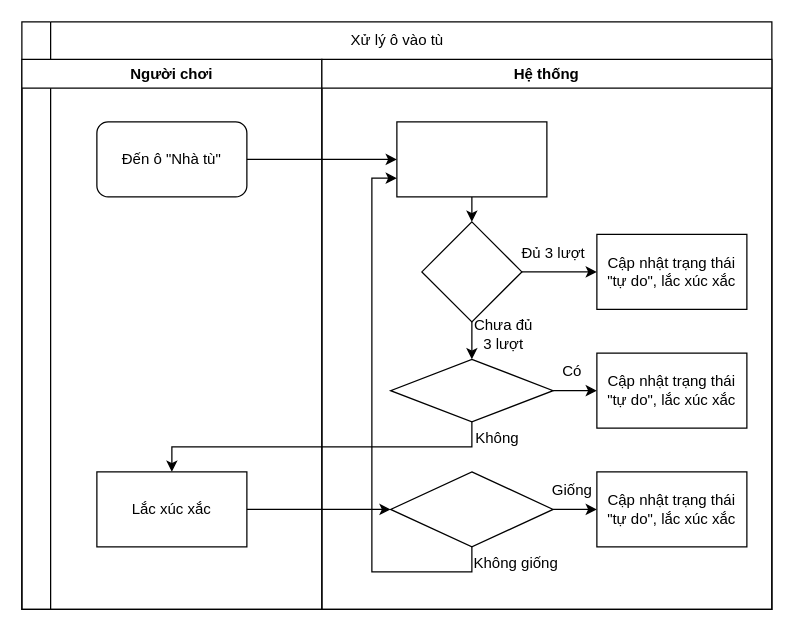
This 794x631 diagram has some shape labels left out. Here are the shapes that lost their labels. From the top down, the centre of each, then its label:
(471,159): Cập nhật trạng thái "bị giam", chờ lượt sau xử lý ra tù
(471,271): Kiểm tra số lượt bị giam
(471,390): Kiểm tra thẻ ra tù, trả tiền
(471,509): Kiểm tra giá trị 2 xúc xắc
